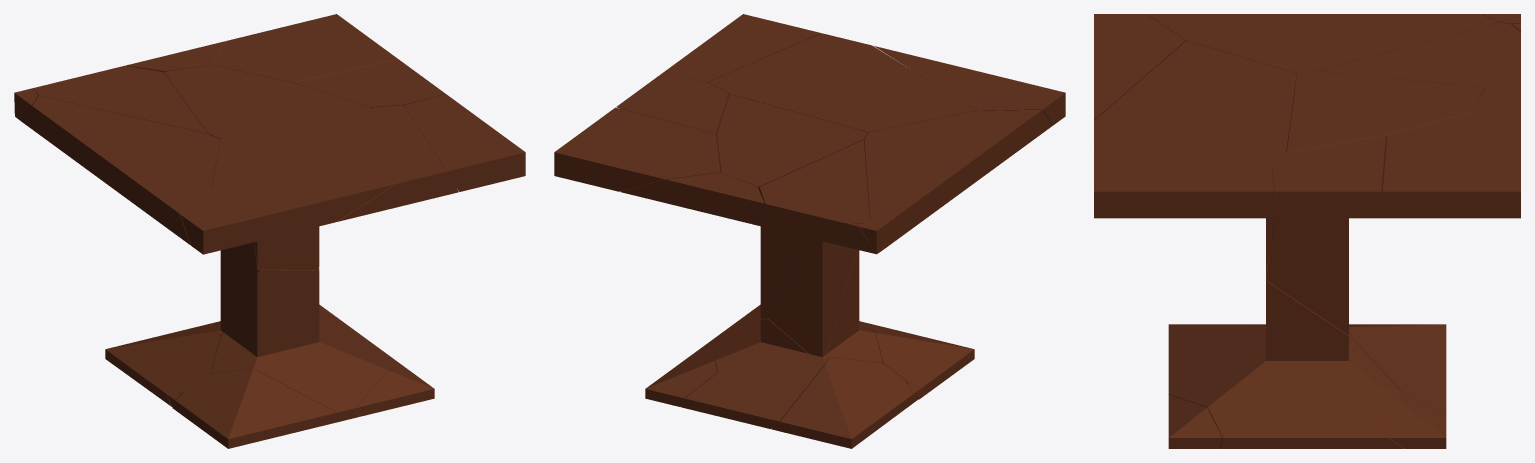
The model's file is TischKlein_kaputt.glb.
The picture shows the model from 3 angles, left to right: view 1: azimuth 30°, elevation 25°; view 2: azimuth 150°, elevation 25°; view 3: azimuth 270°, elevation 25°; orthographic projection. The views are drawn at different scales.
Parts seen in each view (by area): view 1: Kleiner Tisch_cell.012, Kleiner Tisch_cell.005, Kleiner Tisch_cell.007, Kleiner Tisch_cell.011, Kleiner Tisch_cell.010, Kleiner Tisch_cell.004, Kleiner Tisch_cell, Kleiner Tisch_cell.017, Kleiner Tisch_cell.009, Kleiner Tisch_cell.018, Kleiner Tisch_cell.006, Kleiner Tisch_cell.002 (+3 smaller); view 2: Kleiner Tisch_cell.012, Kleiner Tisch_cell.007, Kleiner Tisch_cell.002, Kleiner Tisch_cell.010, Kleiner Tisch_cell, Kleiner Tisch_cell.018, Kleiner Tisch_cell.009, Kleiner Tisch_cell.005, Kleiner Tisch_cell.011, Kleiner Tisch_cell.017, Kleiner Tisch_cell.008, Kleiner Tisch_cell.006 (+4 smaller); view 3: Kleiner Tisch_cell.005, Kleiner Tisch_cell.012, Kleiner Tisch_cell.010, Kleiner Tisch_cell, Kleiner Tisch_cell.007, Kleiner Tisch_cell.017, Kleiner Tisch_cell.009, Kleiner Tisch_cell.006, Kleiner Tisch_cell.011, Kleiner Tisch_cell.002, Kleiner Tisch_cell.004, Kleiner Tisch_cell.019 (+3 smaller).
Part boxes in pixels (x1,y1,x2,y2): Kleiner Tisch_cell.012: (211, 105, 458, 269); Kleiner Tisch_cell.005: (211, 269, 410, 422); Kleiner Tisch_cell.007: (20, 95, 220, 244); Kleiner Tisch_cell.011: (180, 184, 395, 254); Kleiner Tisch_cell.010: (164, 65, 369, 270); Kleiner Tisch_cell.004: (172, 369, 337, 448); Kleiner Tisch_cell: (213, 14, 397, 85); Kleiner Tisch_cell.017: (404, 94, 525, 191); Kleiner Tisch_cell.009: (36, 65, 207, 133); Kleiner Tisch_cell.018: (105, 331, 220, 407); Kleiner Tisch_cell.006: (295, 59, 445, 107); Kleiner Tisch_cell.002: (178, 242, 260, 335); Kleiner Tisch_cell.012: (708, 33, 975, 132); Kleiner Tisch_cell.007: (864, 109, 1052, 250); Kleiner Tisch_cell.002: (681, 237, 857, 428); Kleiner Tisch_cell.010: (708, 94, 867, 319); Kleiner Tisch_cell: (554, 107, 720, 191); Kleiner Tisch_cell.018: (771, 357, 917, 448); Kleiner Tisch_cell.009: (751, 140, 869, 244); Kleiner Tisch_cell.005: (671, 250, 882, 373); Kleiner Tisch_cell.011: (874, 46, 1065, 125); Kleiner Tisch_cell.017: (663, 14, 821, 82); Kleiner Tisch_cell.008: (620, 172, 764, 223); Kleiner Tisch_cell.006: (616, 72, 728, 133); Kleiner Tisch_cell.005: (1168, 239, 1404, 448); Kleiner Tisch_cell.012: (1094, 41, 1296, 274); Kleiner Tisch_cell.010: (1266, 71, 1484, 335); Kleiner Tisch_cell: (1335, 112, 1520, 218); Kleiner Tisch_cell.007: (1146, 14, 1499, 88); Kleiner Tisch_cell.017: (1094, 148, 1284, 218); Kleiner Tisch_cell.009: (1317, 22, 1520, 88); Kleiner Tisch_cell.006: (1272, 135, 1385, 218); Kleiner Tisch_cell.011: (1094, 14, 1185, 119); Kleiner Tisch_cell.002: (1349, 326, 1446, 416); Kleiner Tisch_cell.004: (1168, 324, 1265, 384); Kleiner Tisch_cell.019: (1387, 391, 1446, 448).
Size of the model in its own units: 1.32 by 1 by 1.34.
